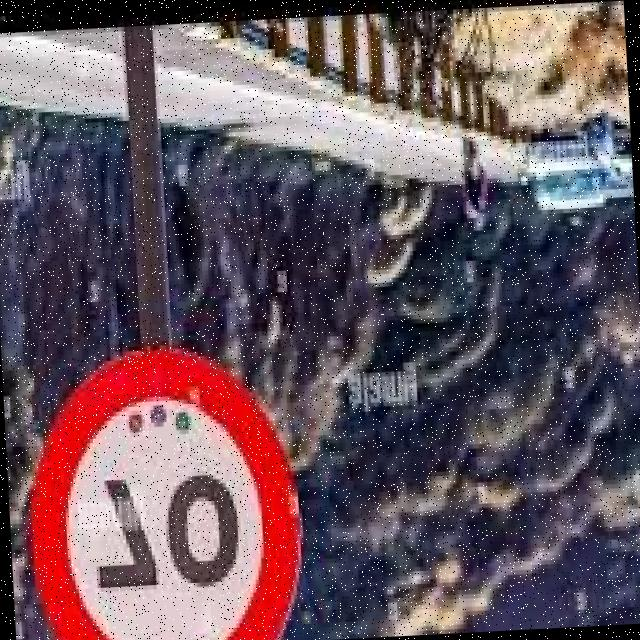speed_limit_70: (7, 342, 308, 640)
